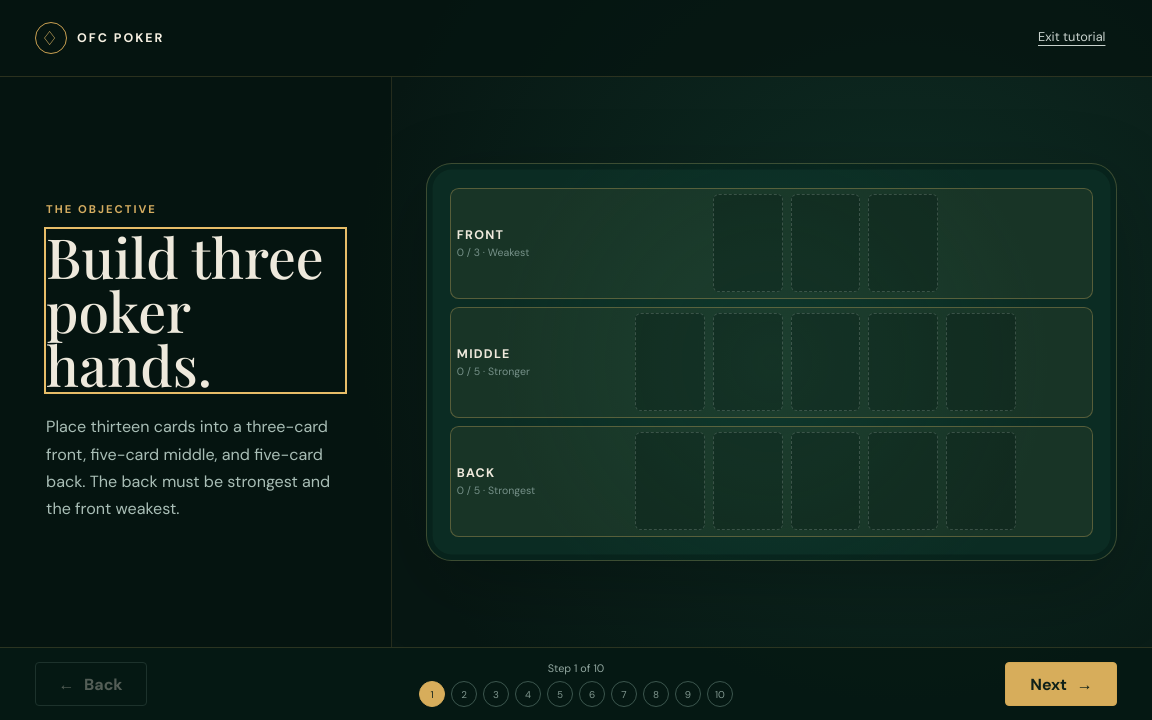
Scenario: guided tutorial screen › supports arrow keys and direct progress navigation
The image size is (1152, 720).
Press ArrowRight
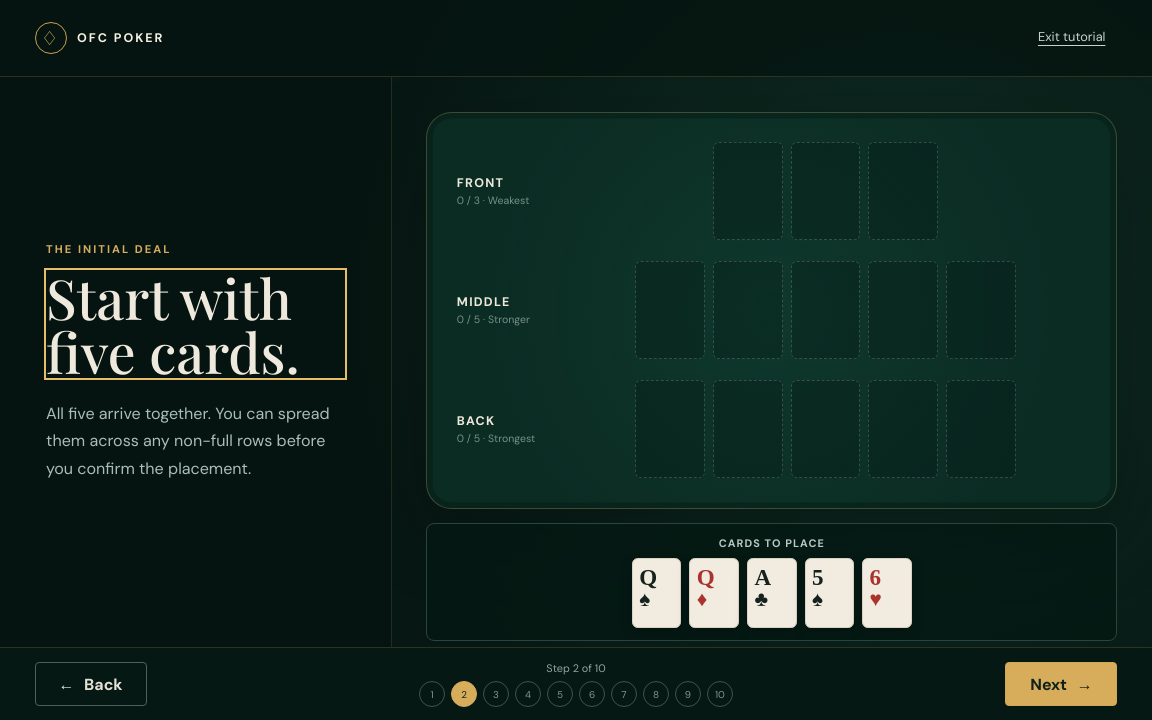
Result: the heading "Start with five cards." is shown at [46, 270, 345, 378]
Press ArrowLeft
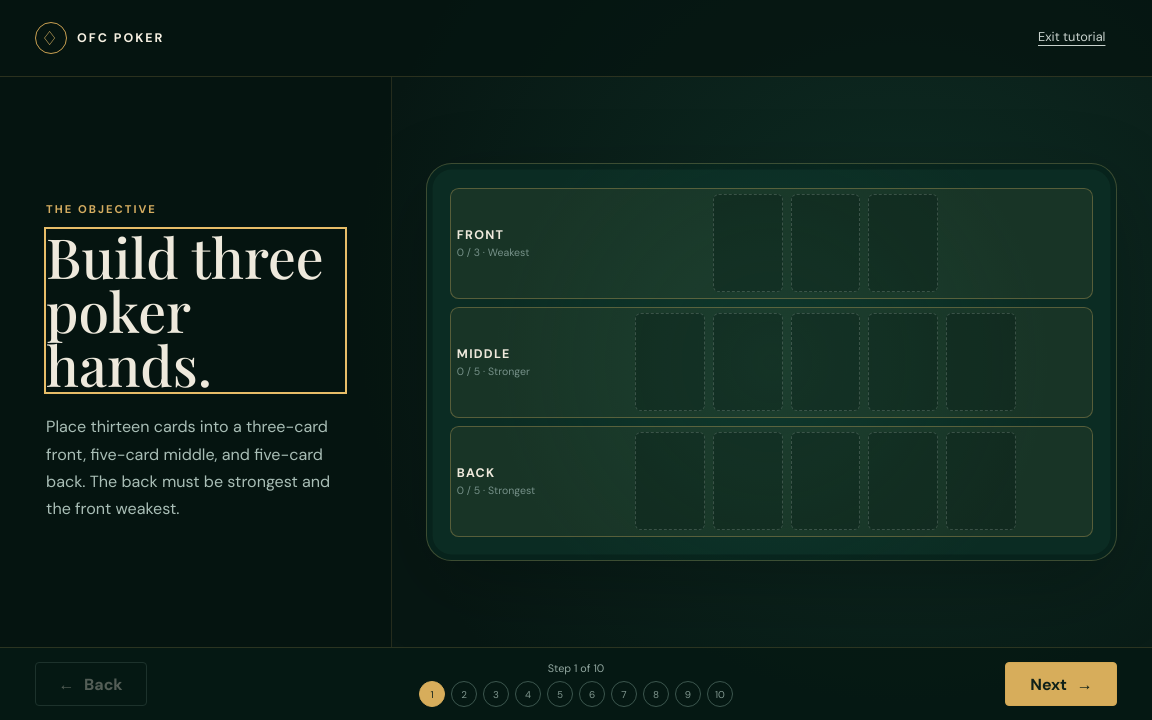
Result: the heading "Build three poker hands." is shown at [46, 229, 345, 392]
Click the button named "Go to step 7: Compare matching rows.": (624, 694) [611, 681, 637, 707]
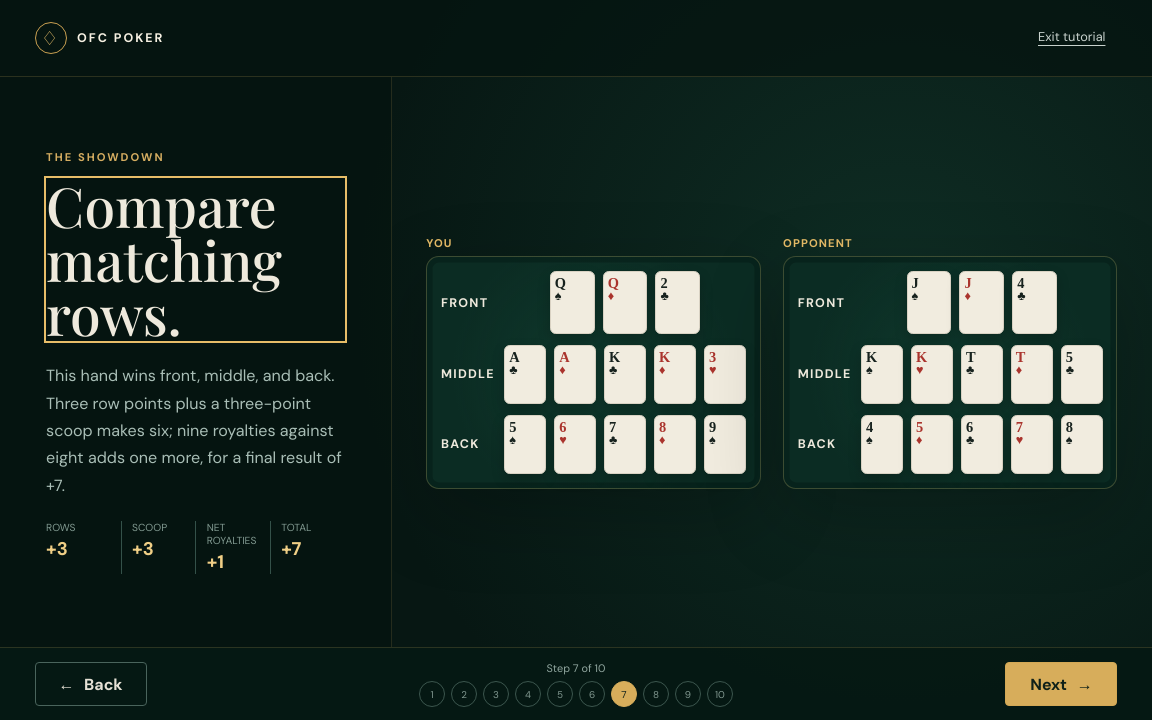
Result: the text "+7" is shown at [281, 537, 301, 561]
Result: the element named "Opponent completed example board" is shown at [783, 256, 1117, 488]
